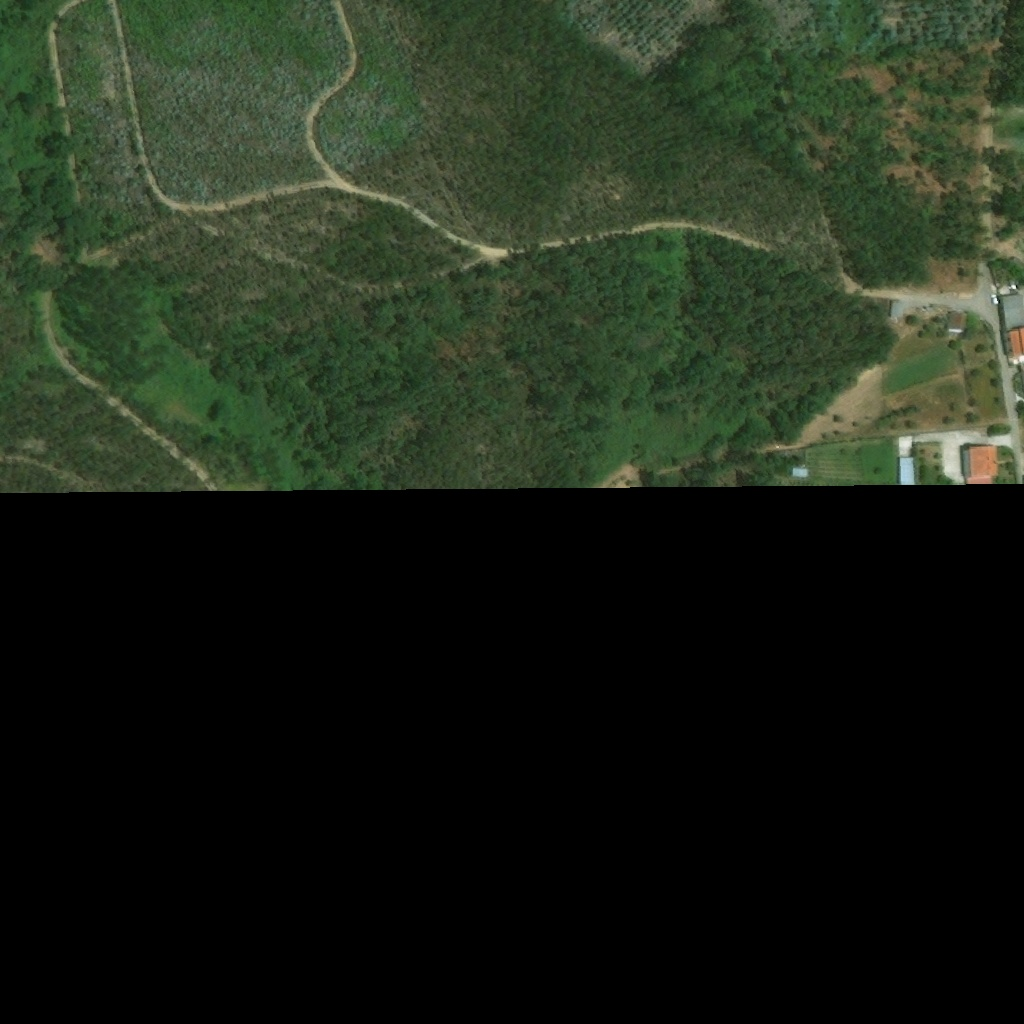0 no-damage: (961, 445, 998, 476), (995, 292, 1023, 331), (1001, 327, 1023, 356), (945, 311, 967, 334), (896, 457, 914, 476), (889, 300, 902, 319), (791, 468, 807, 477)
